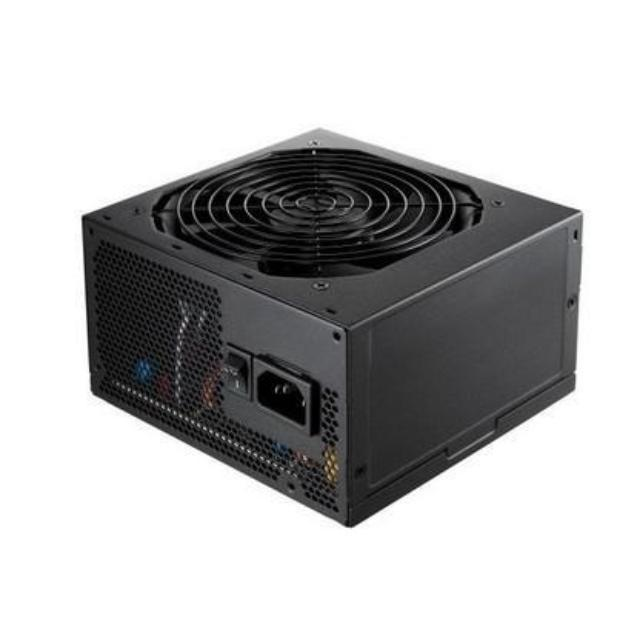PSU: (64, 120, 602, 540)
